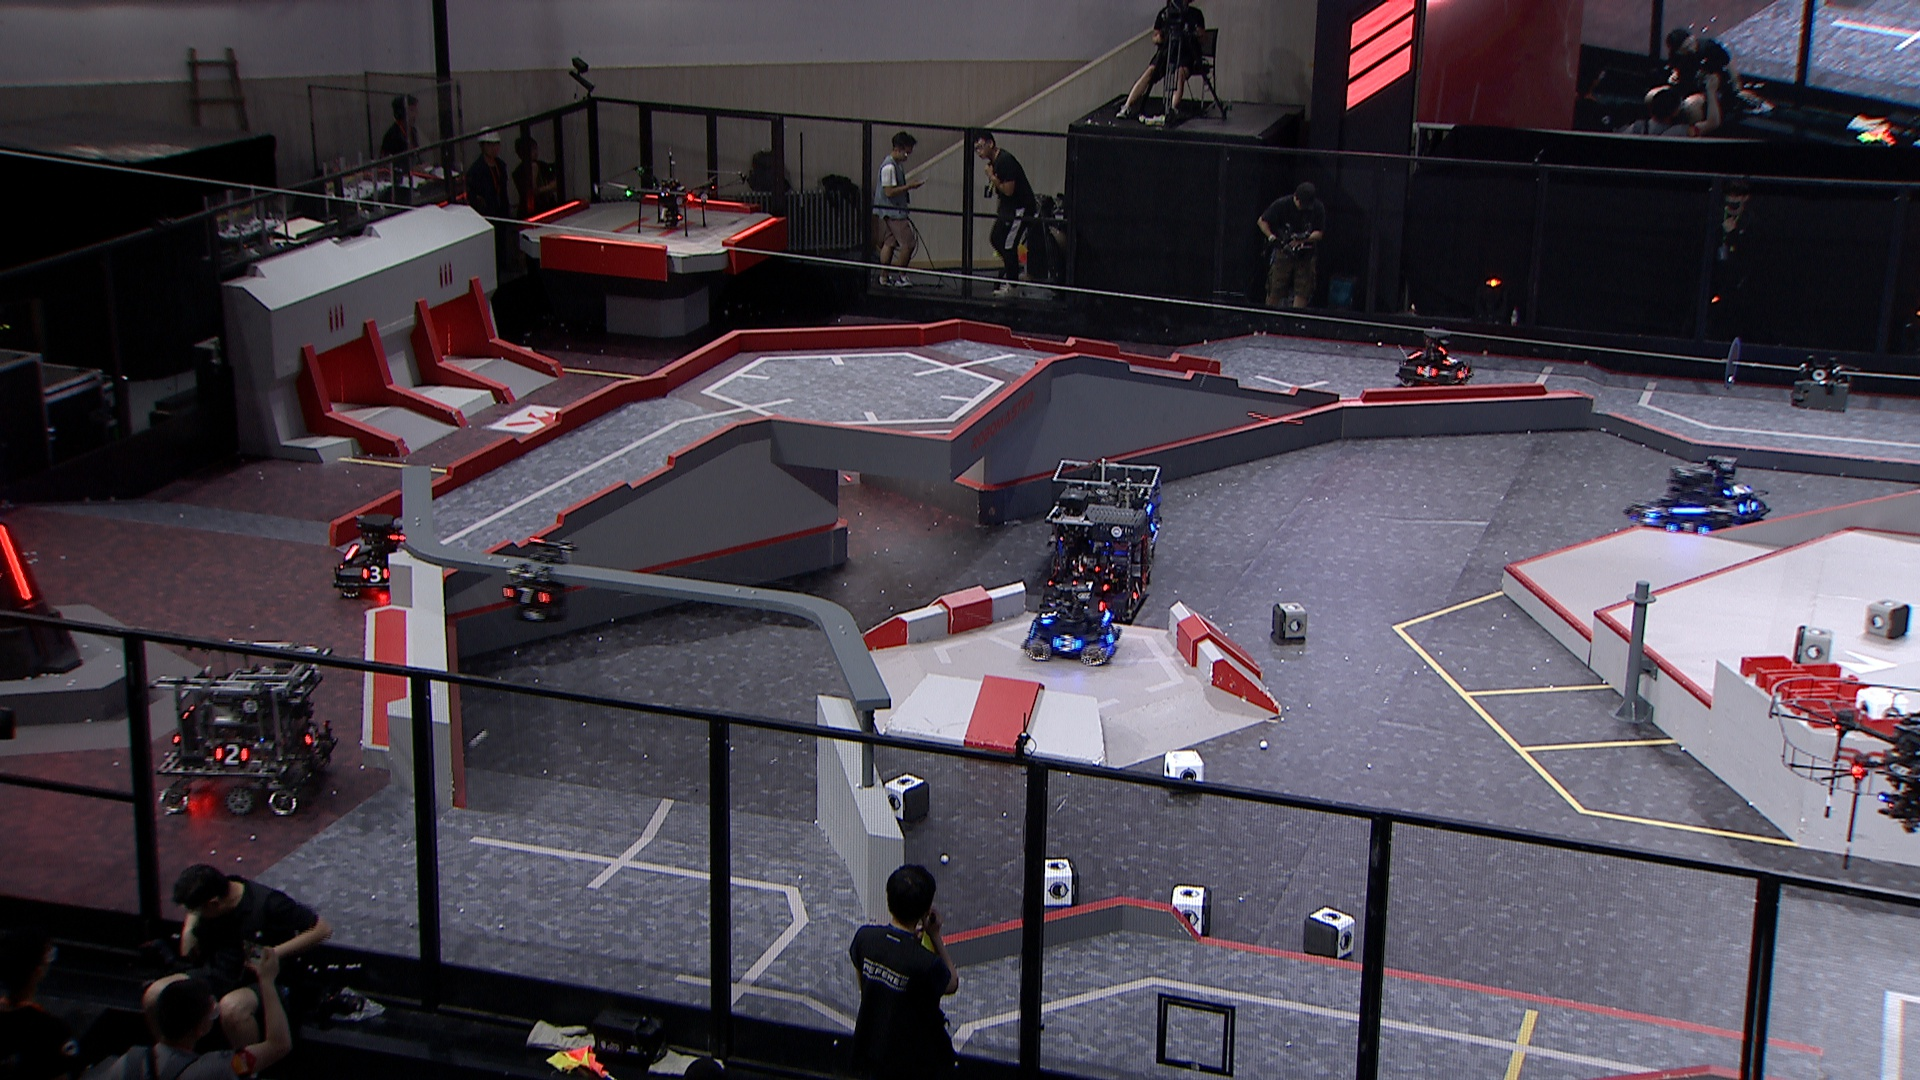armor: (1667, 520, 1704, 541), (211, 742, 247, 764), (505, 585, 545, 603), (359, 566, 392, 582), (1414, 363, 1437, 382), (1054, 636, 1076, 655), (1724, 481, 1754, 496), (1737, 498, 1762, 514), (1129, 580, 1149, 600), (1069, 580, 1109, 589), (305, 723, 319, 746), (1644, 501, 1664, 518), (1455, 363, 1470, 382), (1036, 604, 1058, 618), (1105, 622, 1120, 641), (1444, 352, 1458, 367)
car: (150, 637, 342, 816), (1038, 498, 1162, 628), (1048, 458, 1163, 576), (1627, 469, 1735, 560), (328, 510, 425, 597), (1017, 585, 1122, 665), (1693, 454, 1782, 531), (1400, 324, 1474, 392)
watcher: (498, 534, 575, 624)
